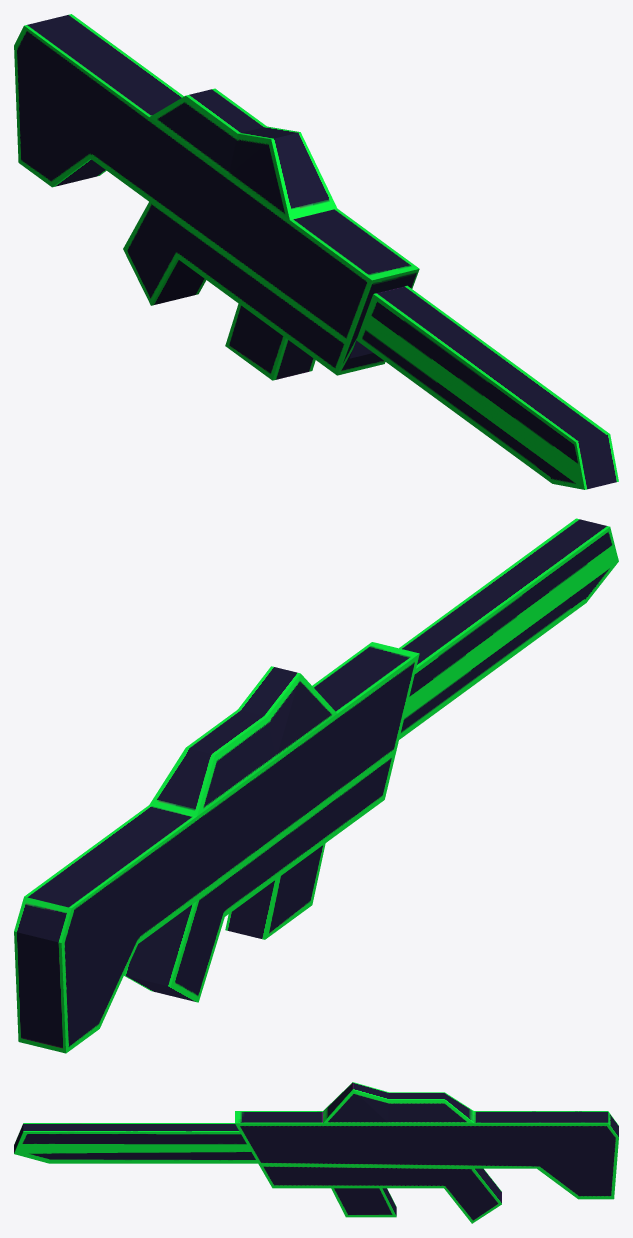
File: sniper_scalled.fbx
3 renders of one model, top to bottom at view 1: azimuth 30°, elevation 25°; view 2: azimuth 150°, elevation 25°; view 3: azimuth 270°, elevation 25°, orthographic. The views are drawn at different scales.
Parts seen in each view (by area): view 1: sniper; view 2: sniper; view 3: sniper.
Part boxes in pixels (left/top/right/bottom): sniper: left=14, top=14, right=618, bottom=489; sniper: left=14, top=518, right=618, bottom=1053; sniper: left=14, top=1082, right=618, bottom=1223.
Size of the model in its own units: 10.72 by 52.88 by 220.
